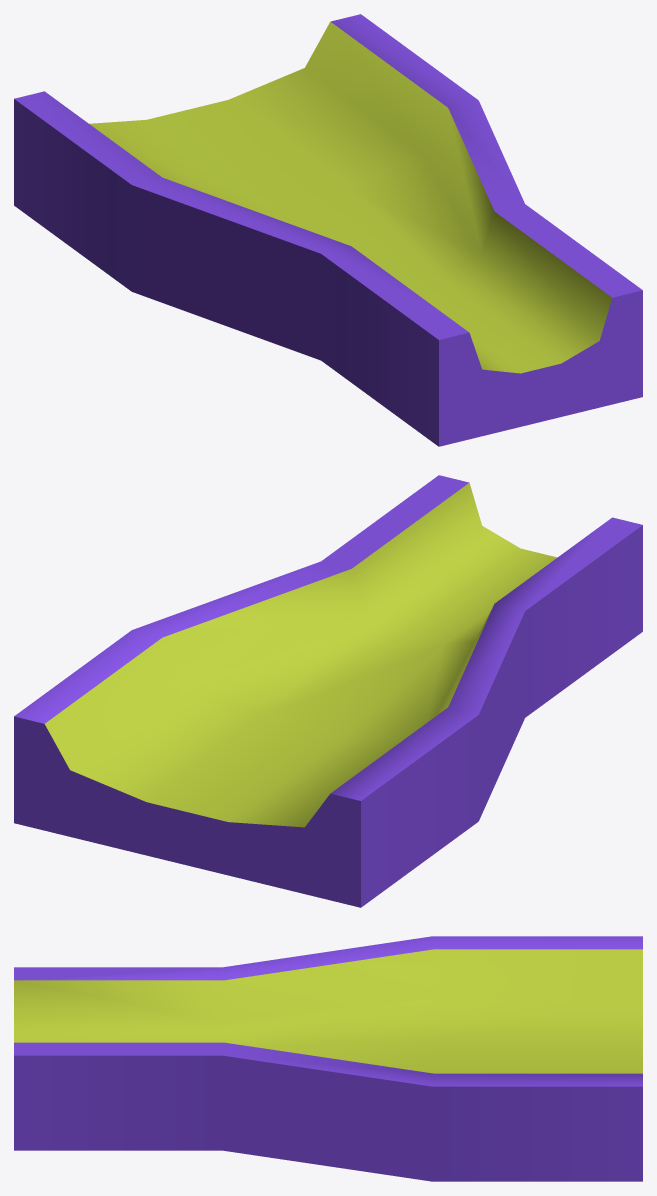
Rendered from funnel_long-col.dae.
3 renders of one model, top to bottom at view 1: azimuth 30°, elevation 25°; view 2: azimuth 150°, elevation 25°; view 3: azimuth 270°, elevation 25°, orthographic. The views are drawn at different scales.
Parts seen in each view (by area): view 1: funnel_long-col; view 2: funnel_long-col; view 3: funnel_long-col.
Boxes of the visible parts, x1,y1,x2,y2 form: funnel_long-col: [14, 14, 642, 446]; funnel_long-col: [14, 475, 642, 907]; funnel_long-col: [14, 936, 642, 1181].
Size of the model in its own units: 1.7 by 3 by 0.5.
